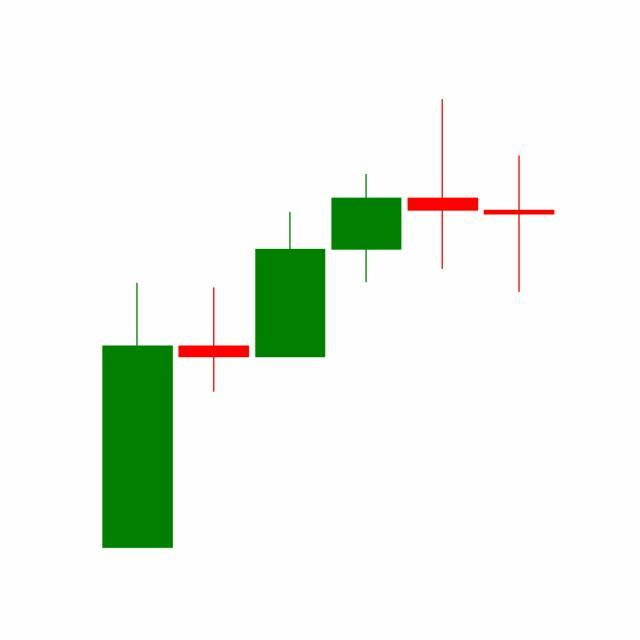Spinning Top: (404, 98, 482, 272)
